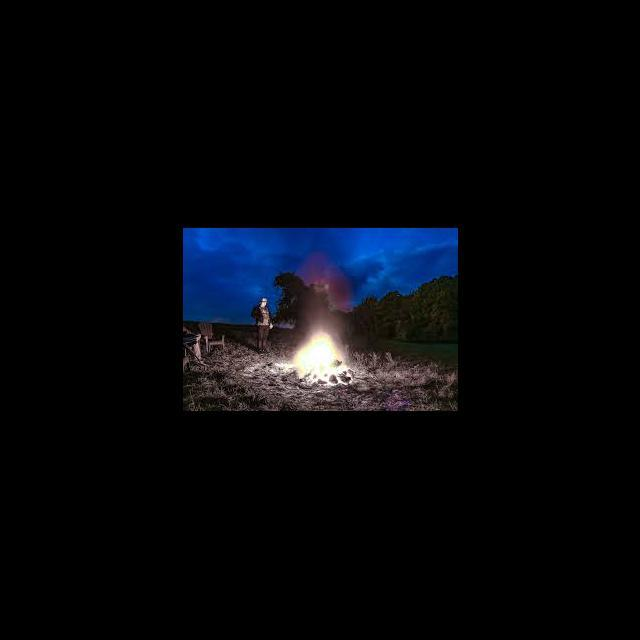Fire: (290, 324, 348, 386)
